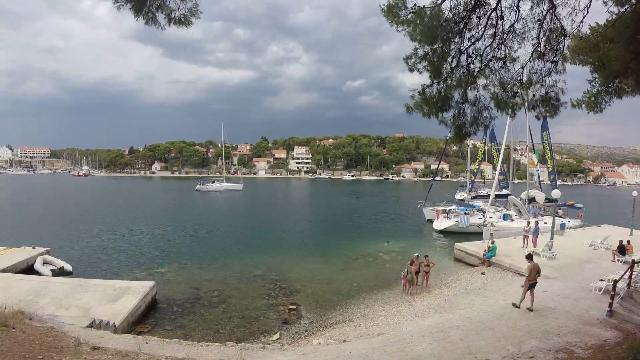Sailboat: (192, 173, 250, 196)
